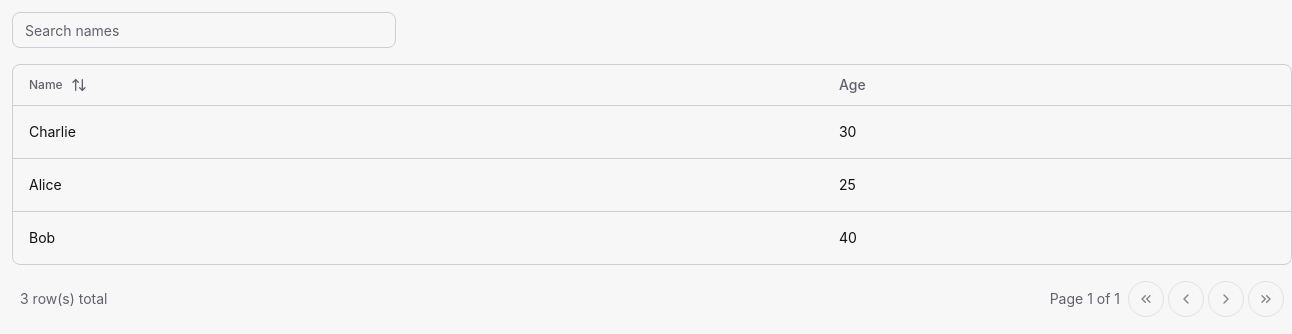
Test case: DataTable › filters rows via the toolbar filter input
Type "ali" into the field with placeholder "Search names" at x=204, y=30, box [12, 12, 396, 48]
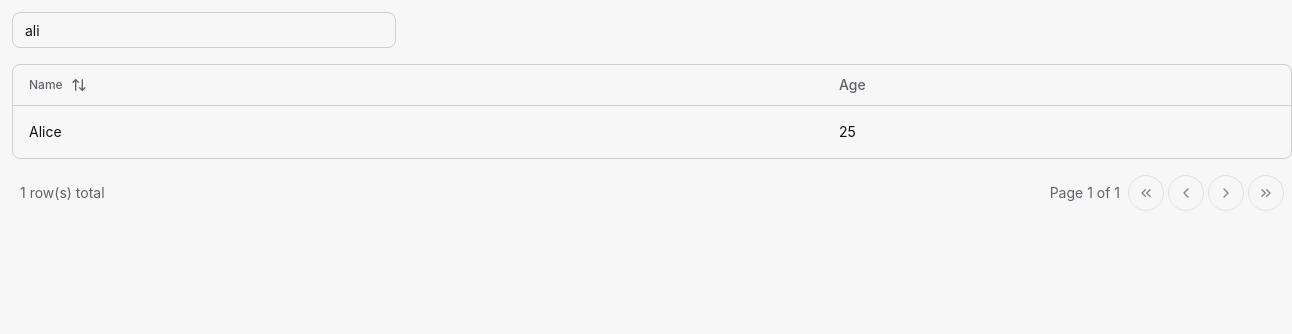
Expected: the text "Alice" is shown, [29, 122, 62, 140]
Expected: the text "Charlie" is gone
Expected: the text "Bob" is gone
